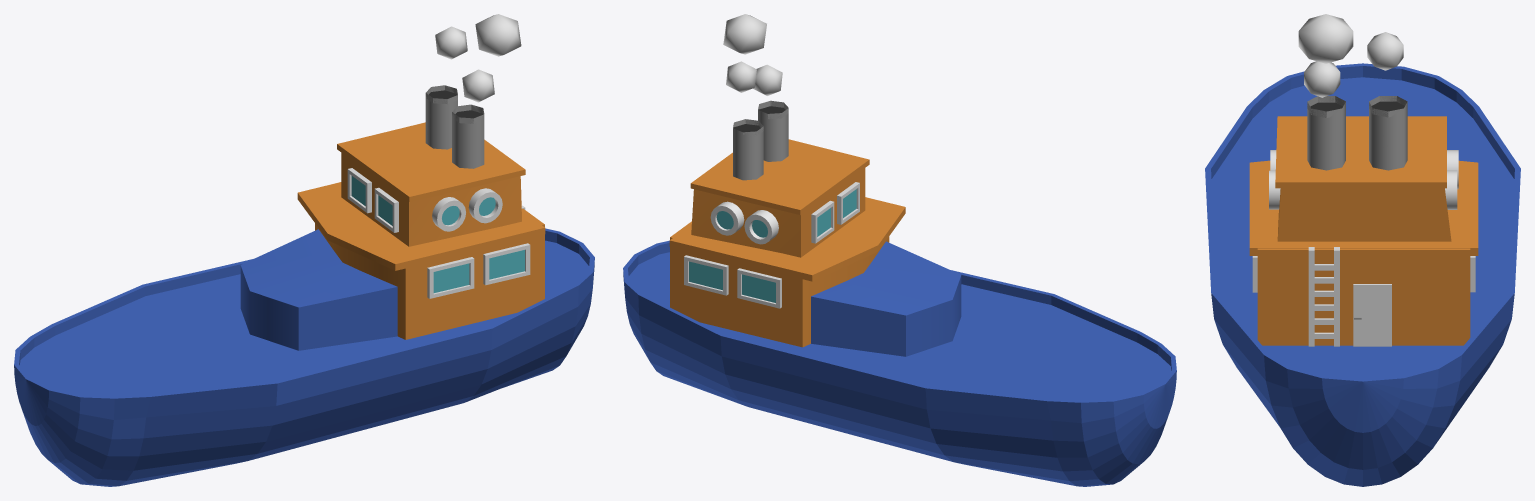
File: HouseBoat_1384.gltf
3 views of the same model, side by side, from view 1: azimuth 30°, elevation 25°; view 2: azimuth 150°, elevation 25°; view 3: azimuth 270°, elevation 25° (orthographic). The views are drawn at different scales.
Visible parts, largest first — view 1: node-0; view 2: node-0; view 3: node-0.
Part boxes in pixels (left/top/right/bottom): node-0: left=14, top=14, right=594, bottom=486; node-0: left=623, top=14, right=1176, bottom=486; node-0: left=1205, top=14, right=1520, bottom=486.
Size of the model in its own units: 133 by 88.02 by 55.64.
